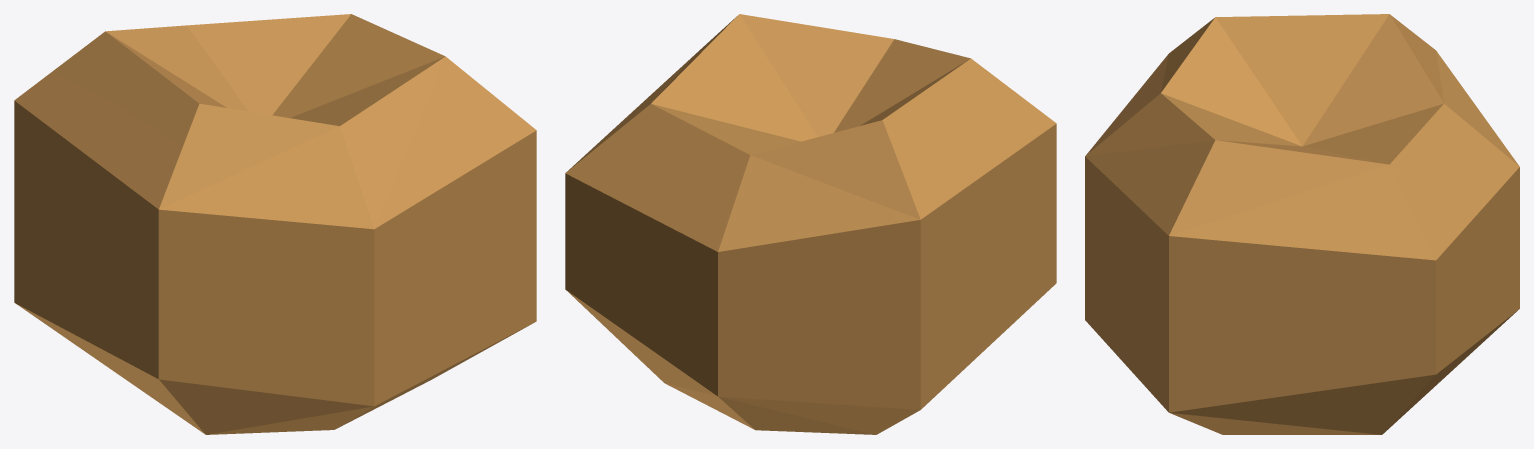
The model's file is SM_Item_Fruit_03.gltf.
3 views of the same model, side by side, from view 1: azimuth 30°, elevation 25°; view 2: azimuth 150°, elevation 25°; view 3: azimuth 270°, elevation 25° (orthographic). The views are drawn at different scales.
Visible parts, largest first — view 1: SM_Item_Fruit_03; view 2: SM_Item_Fruit_03; view 3: SM_Item_Fruit_03.
Boxes of the visible parts, left/top/right/bottom form: SM_Item_Fruit_03: left=14, top=14, right=536, bottom=434; SM_Item_Fruit_03: left=565, top=14, right=1056, bottom=434; SM_Item_Fruit_03: left=1085, top=14, right=1519, bottom=434.
Bounding box in the file's own units: 0.167 × 0.1437 × 0.18.
1 material, 1 textured.
